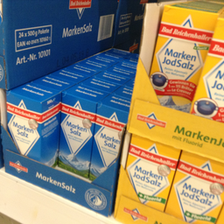spices: (147, 3, 218, 113), (5, 82, 60, 166), (125, 134, 179, 212), (59, 85, 103, 177), (166, 151, 220, 224), (88, 97, 125, 184)
